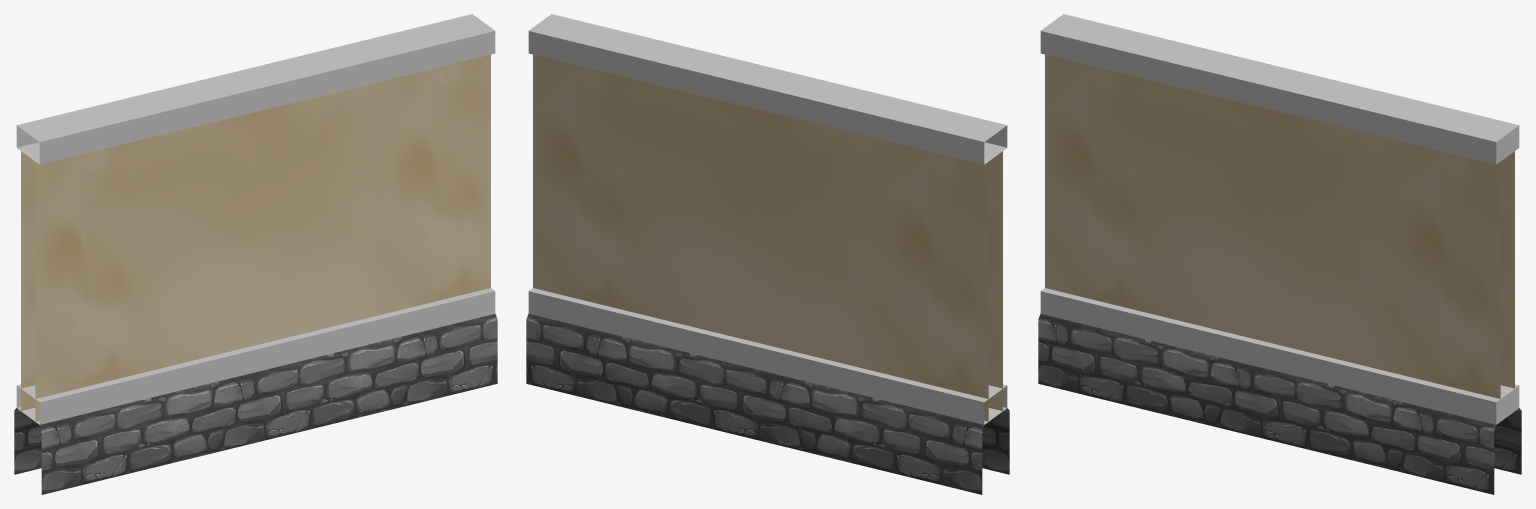
The model's file is MOD_rock_wall_01.fbx.
3 renders of one model, left to right at view 1: azimuth 30°, elevation 25°; view 2: azimuth 150°, elevation 25°; view 3: azimuth 330°, elevation 25°, orthographic.
Parts seen in each view (by area): view 1: rock_wall_01; view 2: rock_wall_01; view 3: rock_wall_01.
Part boxes in pixels (box(x1,y1,x2,y2)): rock_wall_01: box(14, 14, 497, 494); rock_wall_01: box(526, 14, 1009, 494); rock_wall_01: box(1038, 14, 1521, 494).
Size of the model in its own units: 217 by 22.62 by 159.
